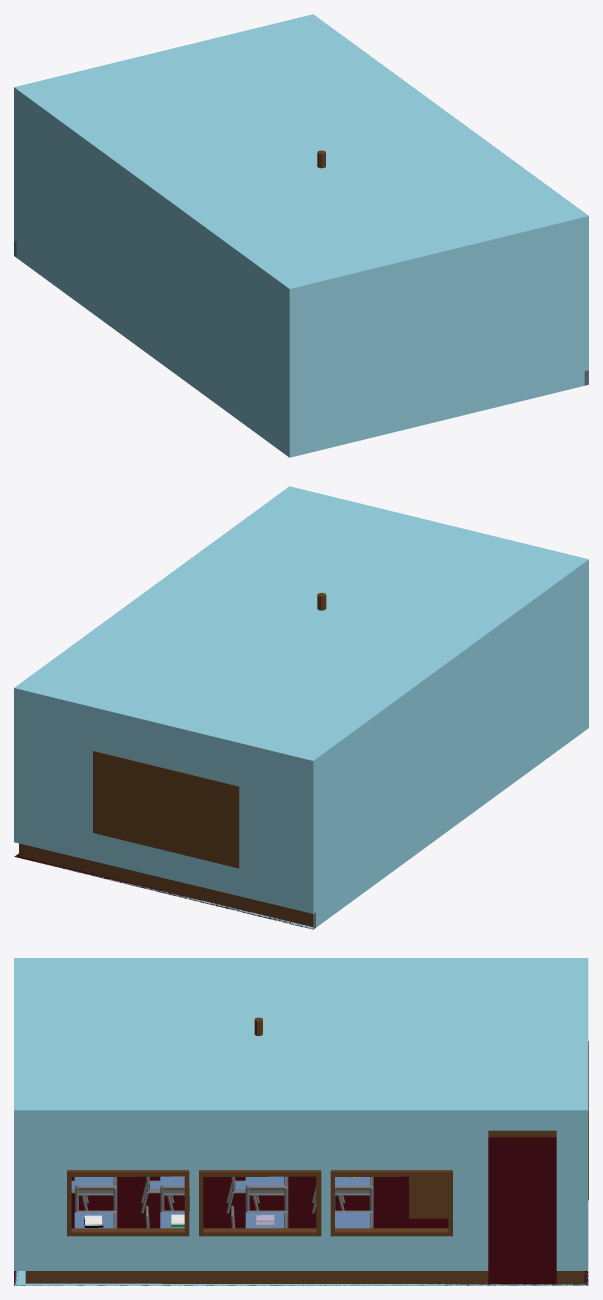
Rendered from Aula_con_entrada.glb.
3 views of the same model, one above another, from view 1: azimuth 30°, elevation 25°; view 2: azimuth 150°, elevation 25°; view 3: azimuth 270°, elevation 25° (orthographic). The views are drawn at different scales.
Visible parts, largest first — view 1: Salon; view 2: Salon, Pizarron; view 3: Salon, Mesa Profesor, Mesa.004, Mesa.010, Mesa.001, Mesa, Mesa.003, Mesa.009, Mesa.007, Sillas.007.
Part boxes in pixels (x1=…): Salon: x1=14, y1=14, x2=588, y2=457; Salon: x1=14, y1=486, x2=588, y2=929; Pizarron: x1=93, y1=751, x2=239, y2=868; Salon: x1=14, y1=958, x2=588, y2=1285; Mesa Profesor: x1=409, y1=1176, x2=448, y2=1218; Mesa.004: x1=245, y1=1176, x2=288, y2=1212; Mesa.010: x1=74, y1=1177, x2=117, y2=1212; Mesa.001: x1=335, y1=1177, x2=373, y2=1212; Mesa: x1=335, y1=1210, x2=373, y2=1228; Mesa.003: x1=245, y1=1210, x2=288, y2=1228; Mesa.009: x1=74, y1=1210, x2=117, y2=1228; Mesa.007: x1=160, y1=1171, x2=189, y2=1212; Sillas.007: x1=140, y1=1176, x2=174, y2=1213.
Size of the model in its own units: 10.67 by 6.16 by 16.83.
Materials: 13 (13 with a texture image).
